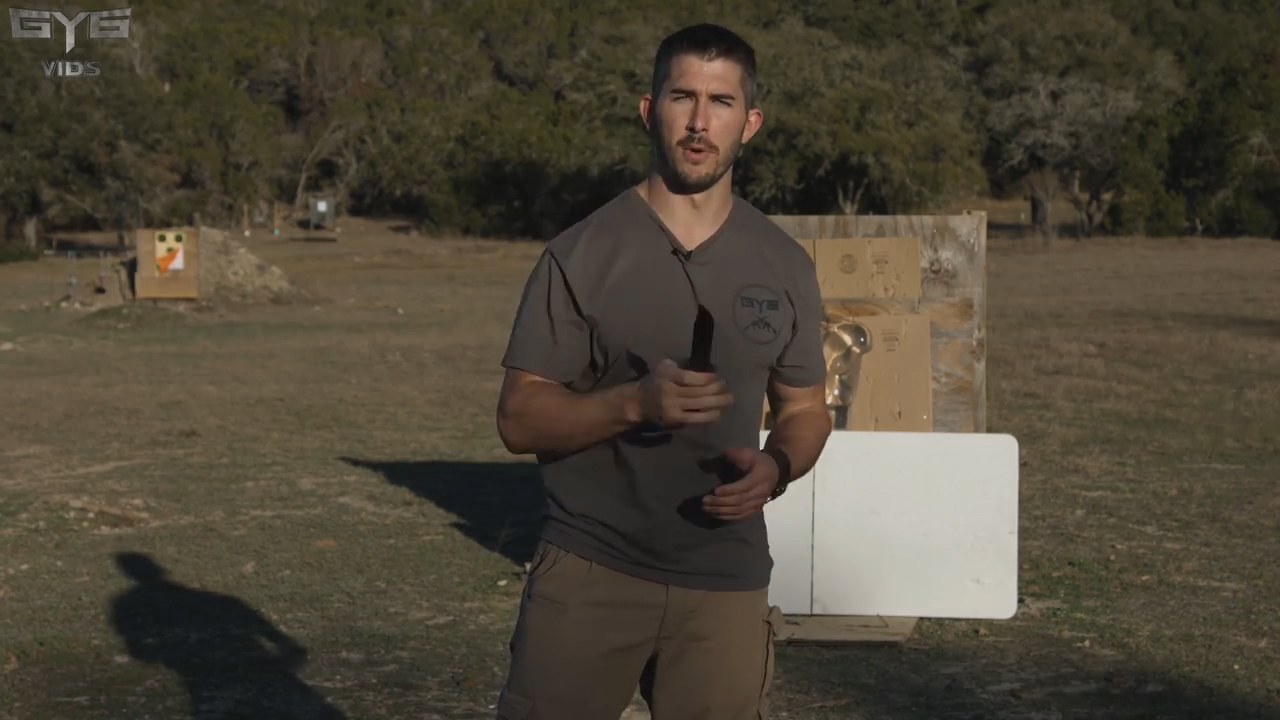knife: (668, 300, 735, 421)
